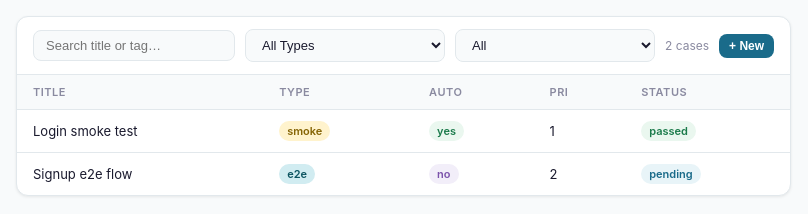
TestCases — list and filters › filters by automation status
Check: the text "Login smoke test" is shown, box [17,110,263,152]
Select "Manual" in the 2nd dropdown: (555, 46) [455,29,655,62]
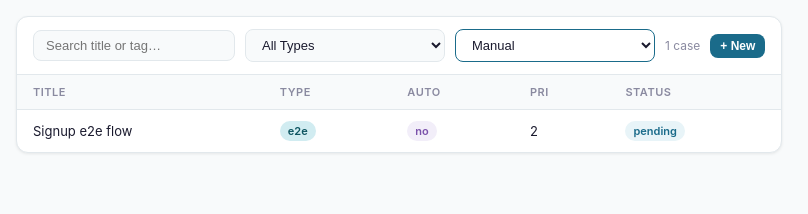
Check: the text "Signup e2e flow" is shown, box [17,110,264,152]
Check: the text "Login smoke test" is gone
